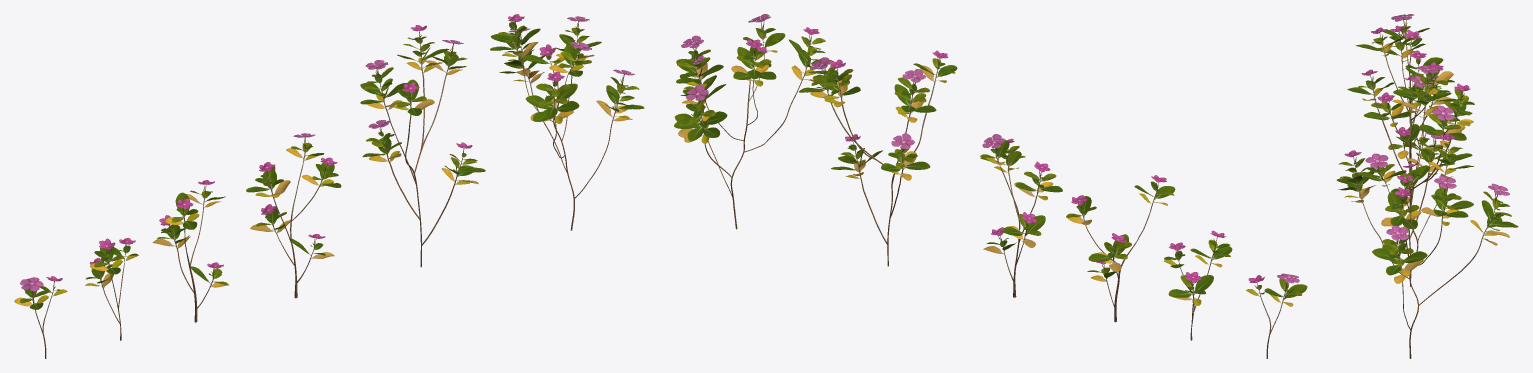
The model's file is periwinkle_plant_e3d7caa4.glb.
The picture shows the model from 3 angles, left to right: view 1: azimuth 30°, elevation 25°; view 2: azimuth 150°, elevation 25°; view 3: azimuth 270°, elevation 25°; orthographic projection. The views are drawn at different scales.
Visible parts, largest first — view 1: periwinkle_plant_e3d7caa4; view 2: periwinkle_plant_e3d7caa4; view 3: periwinkle_plant_e3d7caa4.
Part boxes in pixels (<box>): periwinkle_plant_e3d7caa4: <box>14,14,644,358</box>; periwinkle_plant_e3d7caa4: <box>674,14,1307,358</box>; periwinkle_plant_e3d7caa4: <box>1336,14,1518,358</box>.
Size of the model in its own units: 1.24 by 0.4107 by 0.3208.
Materials: 1 (1 with a texture image).
